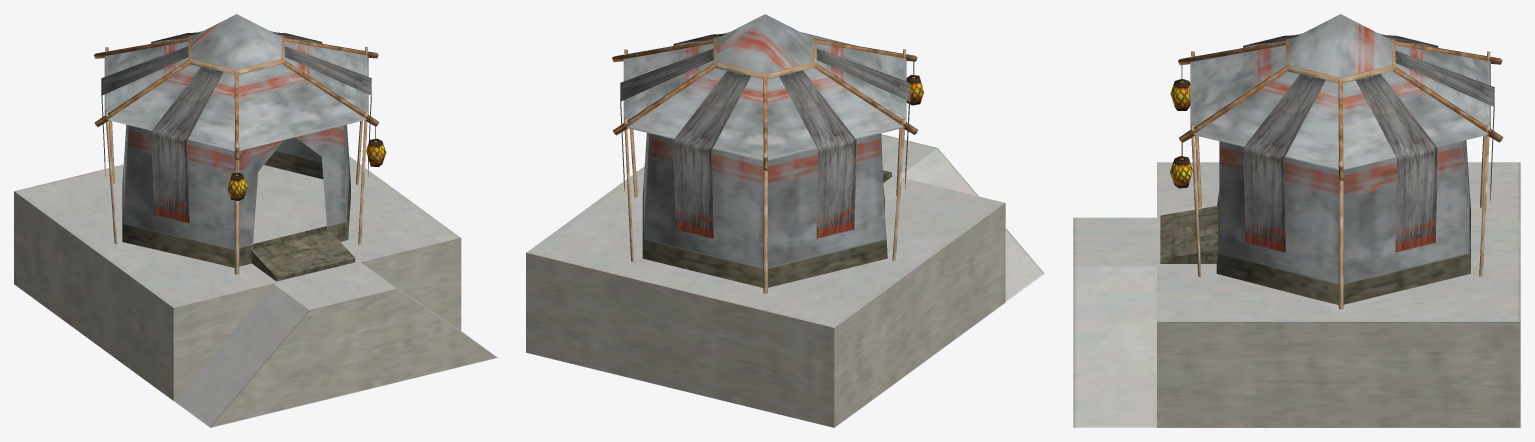
The model's file is ply_corl_merchant_tent_s01_r0_mesh_l2.fbx.
3 renders of one model, left to right at view 1: azimuth 30°, elevation 25°; view 2: azimuth 150°, elevation 25°; view 3: azimuth 270°, elevation 25°, orthographic. The views are drawn at different scales.
Parts seen in each view (by area): view 1: mesh_node; view 2: mesh_node; view 3: mesh_node.
Boxes of the visible parts, x1,y1,x2,y2 form: mesh_node: (14,14,497,427); mesh_node: (526,14,1044,427); mesh_node: (1073,14,1520,427).
Bounding box in the file's own units: 9.05 × 8.81 × 10.7.
